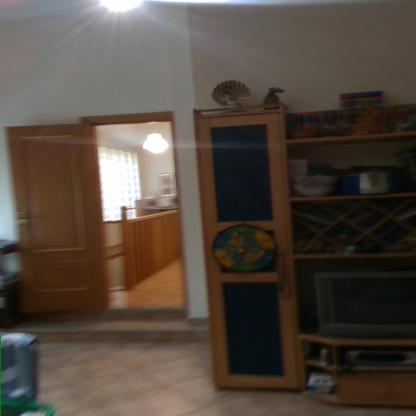open: (5, 100, 199, 373)
